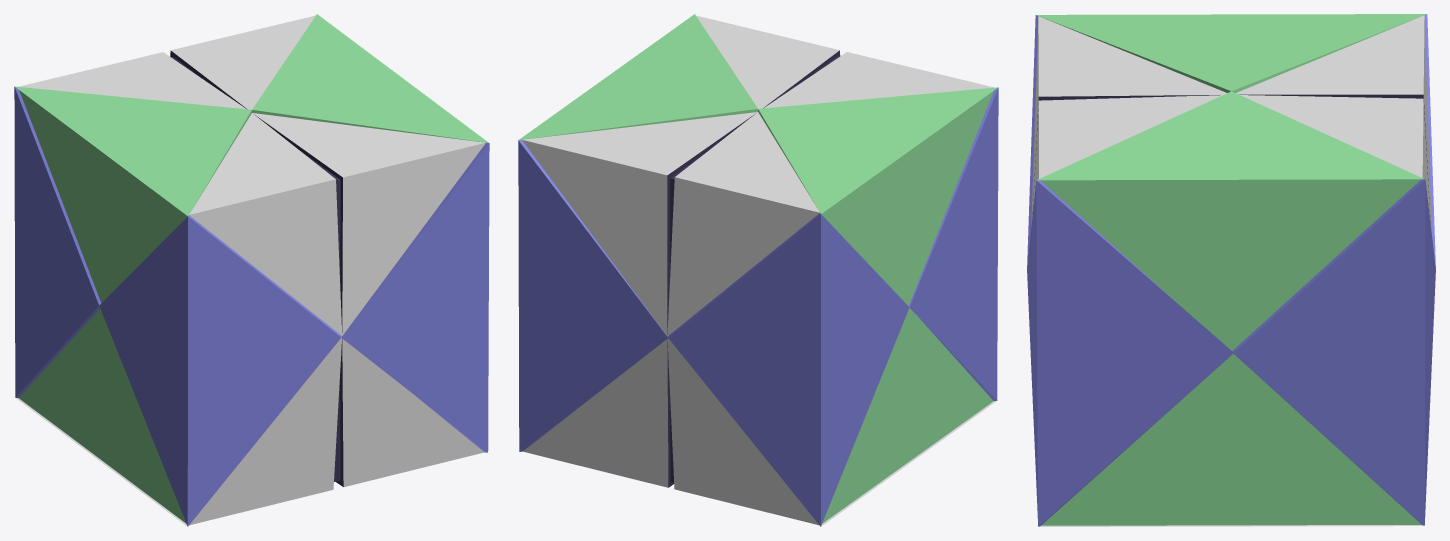
File: CubeOrigami.fbx
3 renders of one model, left to right at view 1: azimuth 30°, elevation 25°; view 2: azimuth 150°, elevation 25°; view 3: azimuth 270°, elevation 25°, orthographic. The views are drawn at different scales.
Parts seen in each view (by area): view 1: Plane.002; view 2: Plane.002; view 3: Plane.002.
Boxes of the visible parts, x1,y1,x2,y2 form: Plane.002: (14,14,489,526); Plane.002: (518,14,998,526); Plane.002: (1027,14,1435,526).
Size of the model in its own units: 230 by 231 by 240.
